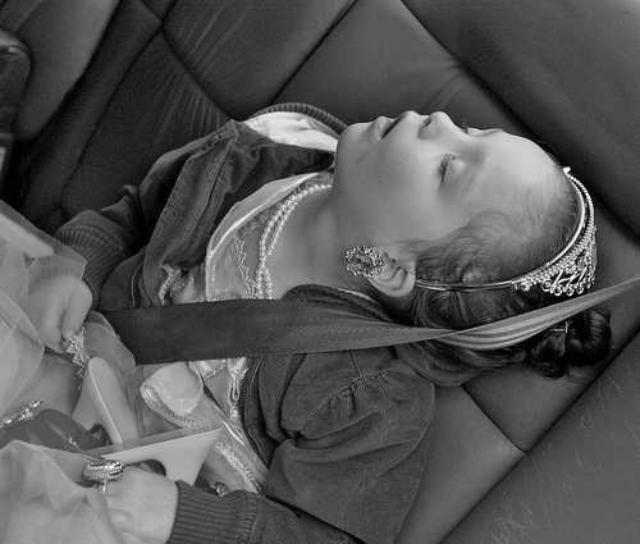Seatbelt: (104, 264, 640, 376)
